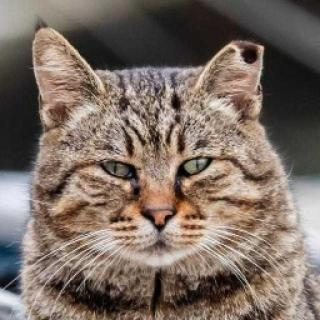cat: (29, 23, 272, 283)
nose: (136, 183, 184, 234)
